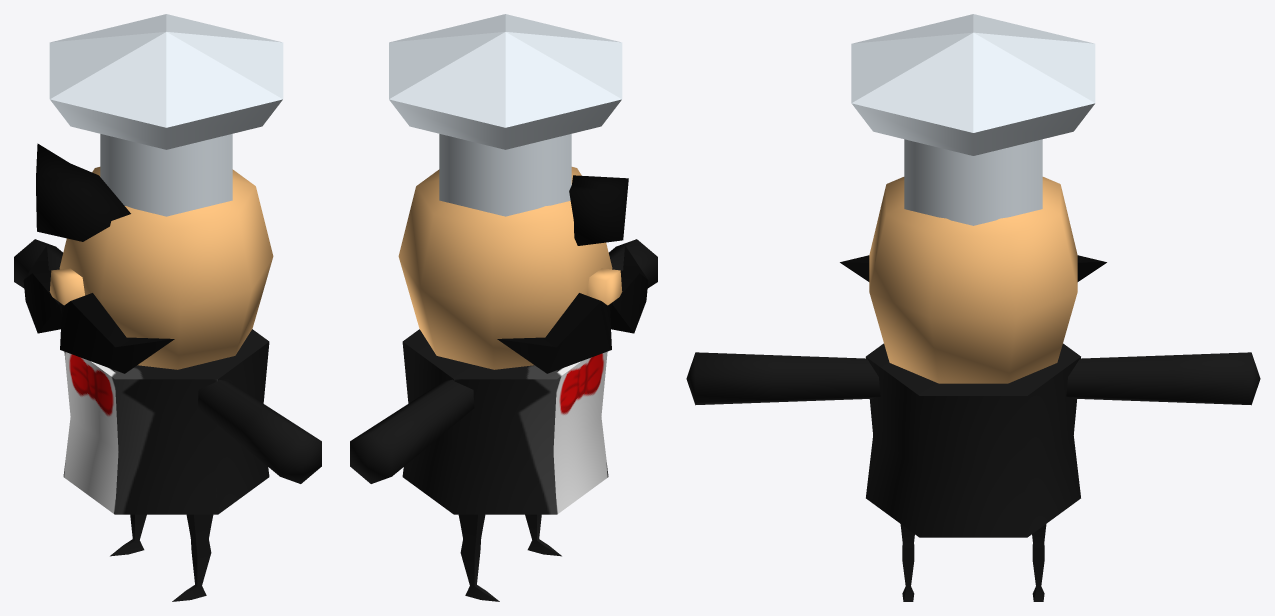
Rendered from player.FBX.
3 views of the same model, side by side, from view 1: azimuth 30°, elevation 25°; view 2: azimuth 150°, elevation 25°; view 3: azimuth 270°, elevation 25° (orthographic). The views are drawn at different scales.
Parts seen in each view (by area): view 1: player; view 2: player; view 3: player.
Boxes of the visible parts, x1,y1,x2,y2 form: player: [14, 14, 321, 601]; player: [350, 14, 657, 601]; player: [686, 14, 1260, 601].
Size of the model in its own units: 1.29 by 2.77 by 2.55.
